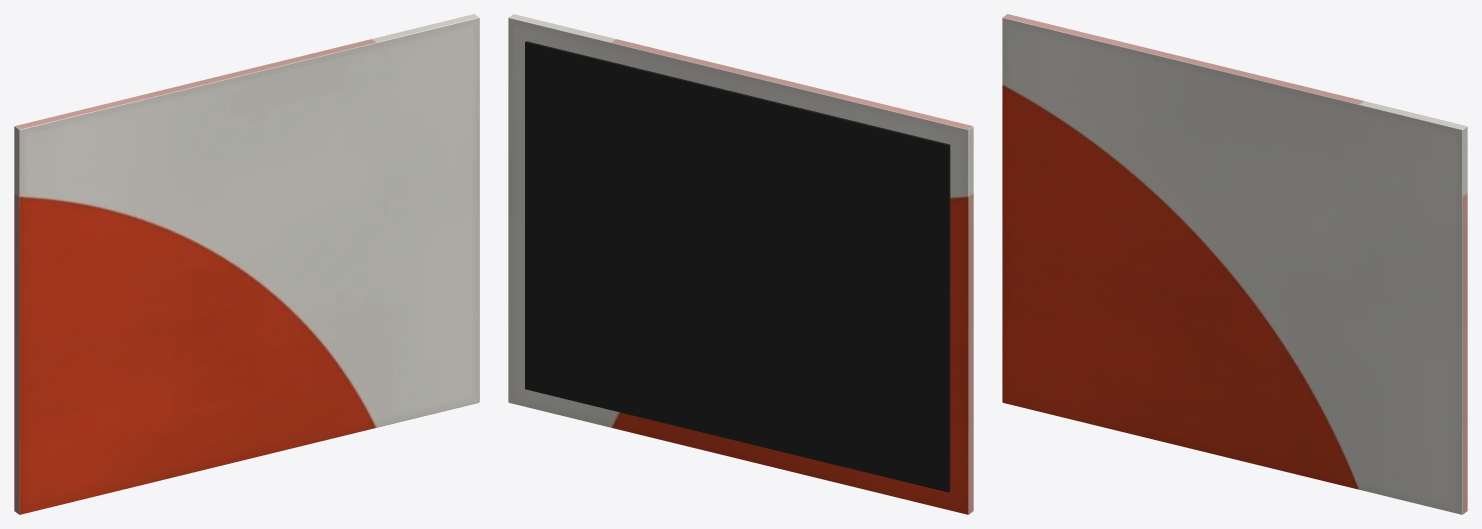
Rendered from art_curve_vermilion.gltf.
3 views of the same model, side by side, from view 1: azimuth 30°, elevation 25°; view 2: azimuth 150°, elevation 25°; view 3: azimuth 330°, elevation 25° (orthographic).
Visible parts, largest first — view 1: Art_CurveVermilion_Art; view 2: Art_CurveVermilion_Spacer, Art_CurveVermilion_Art; view 3: Art_CurveVermilion_Art.
Boxes of the visible parts, x1,y1,x2,y2 form: Art_CurveVermilion_Art: (14,14,479,514); Art_CurveVermilion_Spacer: (525,41,950,492); Art_CurveVermilion_Art: (508,14,973,514); Art_CurveVermilion_Art: (1002,14,1467,514).
Size of the model in its own units: 2 by 1.6 by 0.05.
2 materials, 1 textured.
